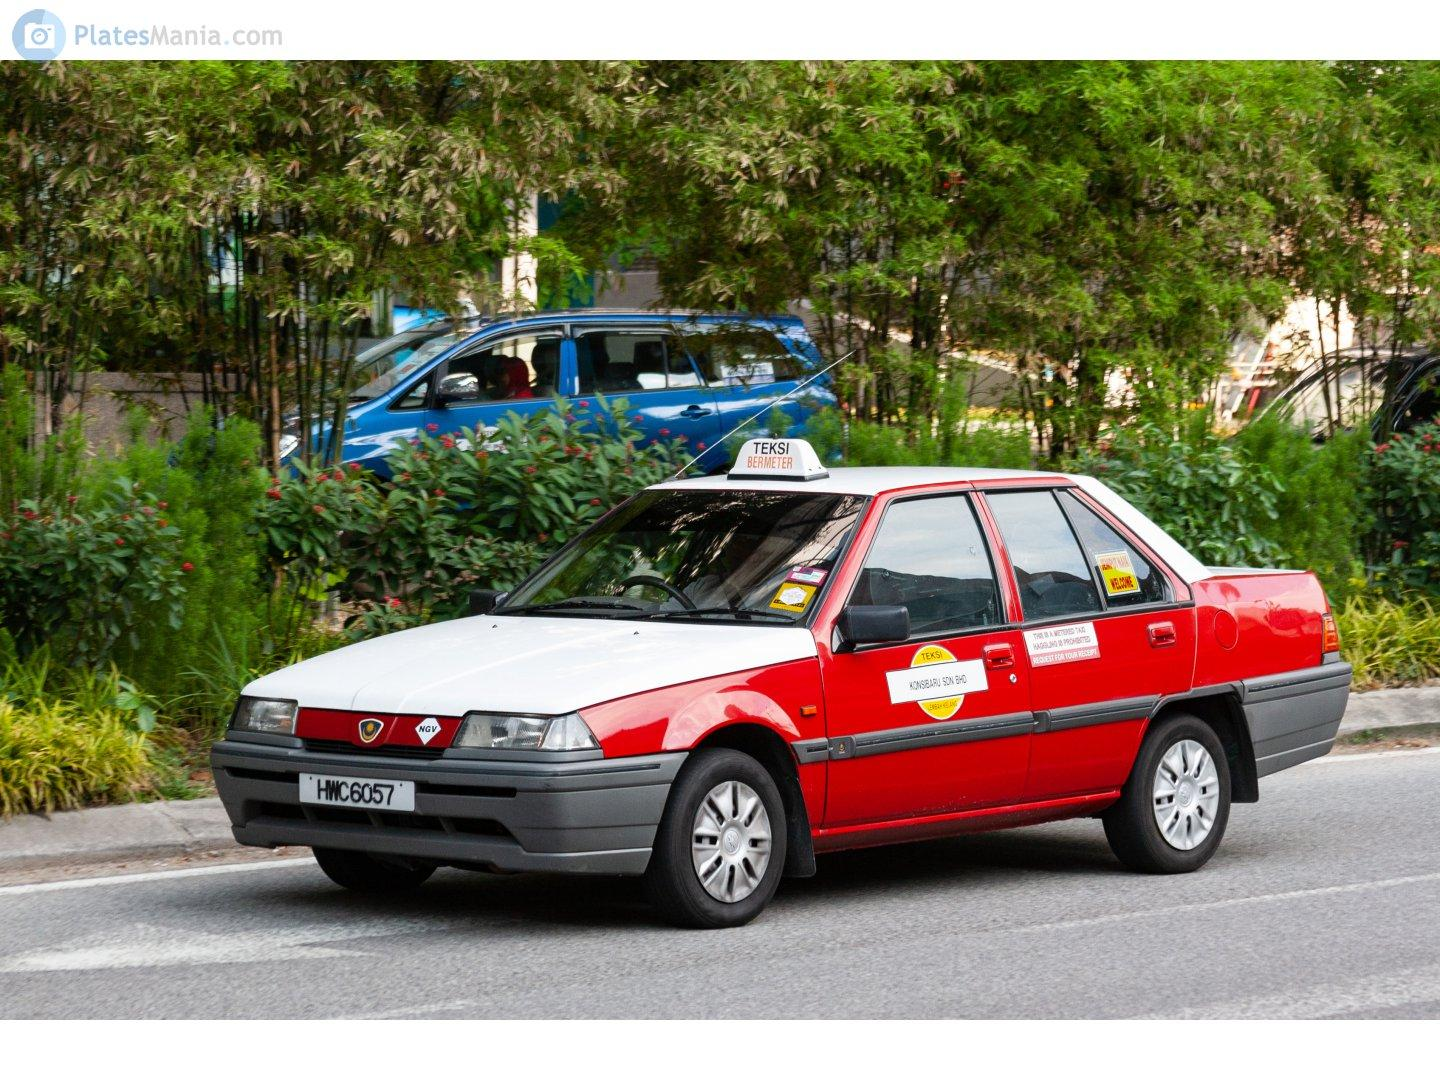License Plate: (299, 775, 415, 814)
